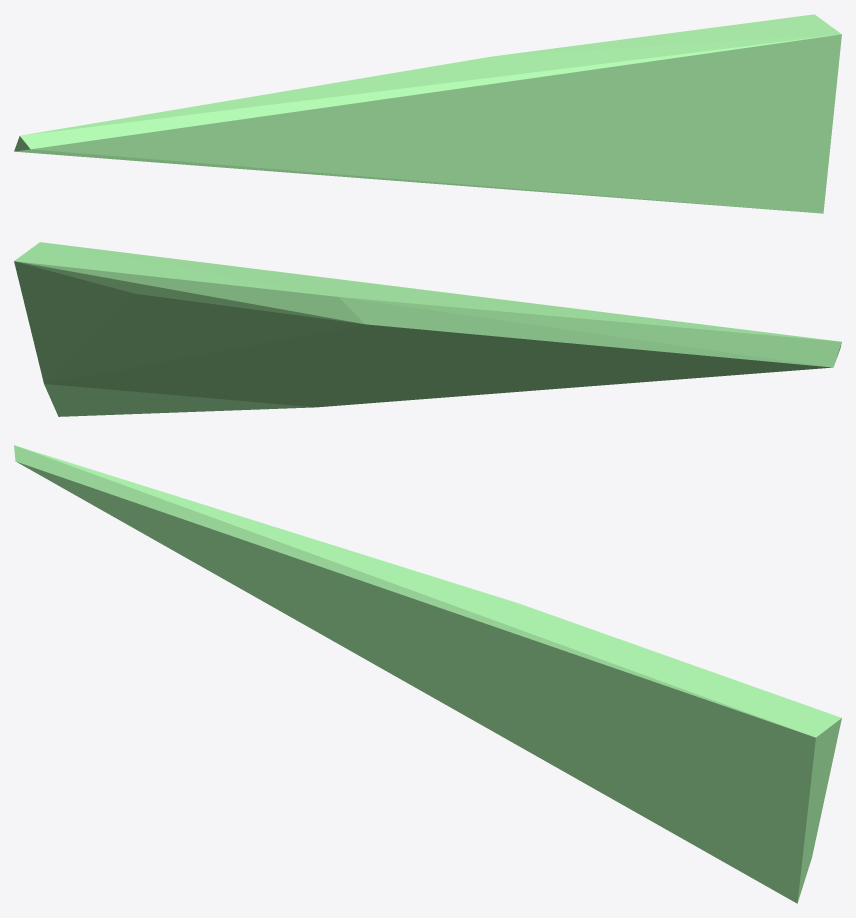
The model's file is UMIRobot_UMIRobot_link_4_convex_coll_20.dae.
3 renders of one model, top to bottom at view 1: azimuth 30°, elevation 25°; view 2: azimuth 150°, elevation 25°; view 3: azimuth 330°, elevation 25°, orthographic. The views are drawn at different scales.
Parts seen in each view (by area): view 1: node; view 2: node; view 3: node.
Part boxes in pixels (<box>): node: <box>14,14,841,213</box>; node: <box>14,242,841,416</box>; node: <box>14,445,841,903</box>.
Size of the model in its own units: 0.1187 by 0.0377 by 0.00795.
